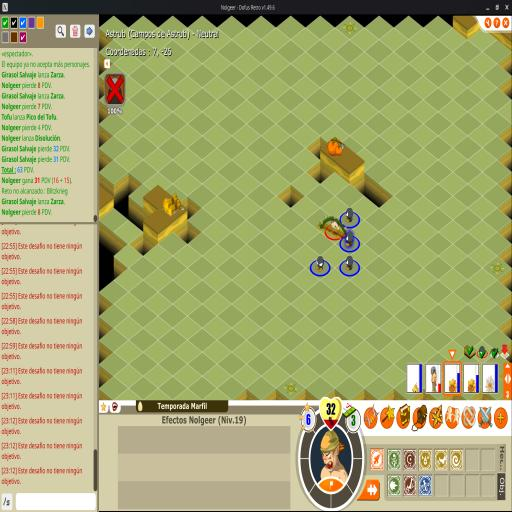Enemigos: (339, 207, 360, 229), (339, 231, 360, 253), (339, 255, 360, 277), (310, 256, 330, 277)
Personaje: (318, 212, 346, 240)
